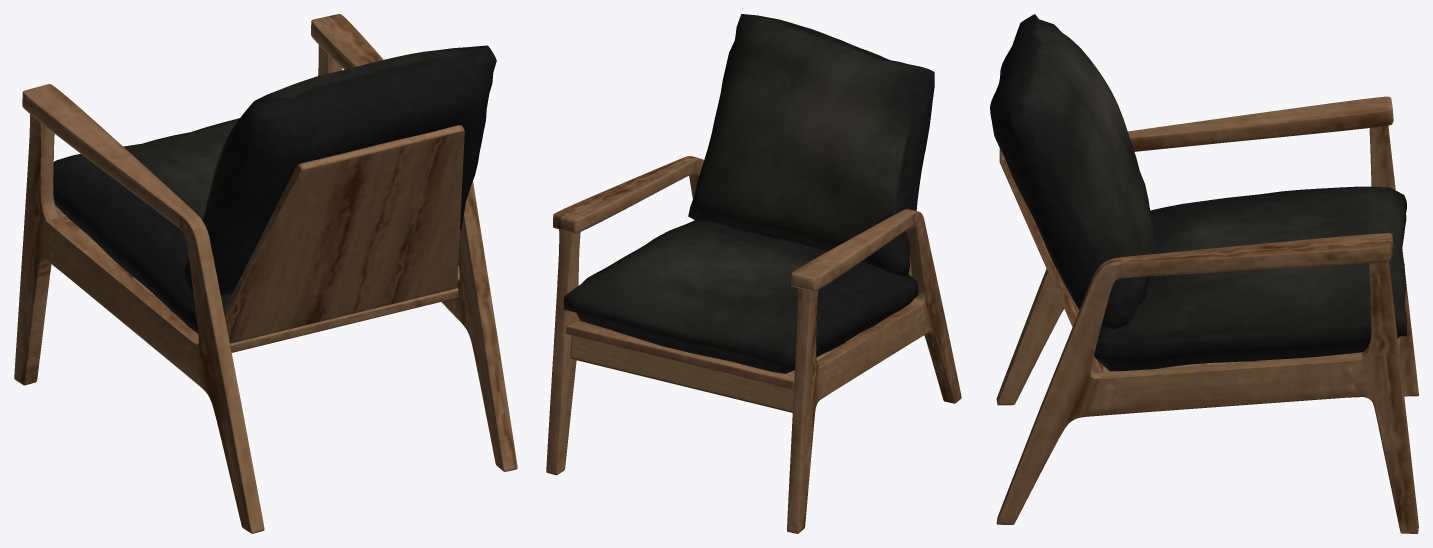
Rendered from armchair.glb.
The picture shows the model from 3 angles, left to right: view 1: azimuth 30°, elevation 25°; view 2: azimuth 150°, elevation 25°; view 3: azimuth 270°, elevation 25°; orthographic projection. The views are drawn at different scales.
Visible parts, largest first — view 1: armchair; view 2: armchair; view 3: armchair.
Part boxes in pixels (bbox=[...]): armchair: bbox=[14, 14, 517, 533]; armchair: bbox=[546, 14, 961, 533]; armchair: bbox=[990, 14, 1418, 533].
Size of the model in its own units: 0.8204 by 1.02 by 0.9866.
Materials: 2 (2 with a texture image).
